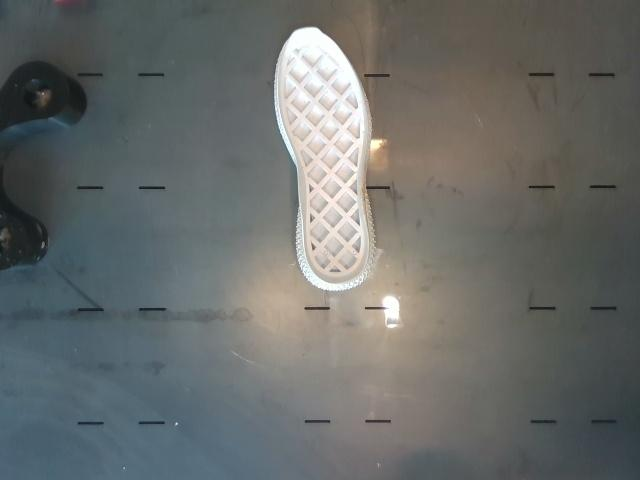shoes: (279, 28, 369, 283)
